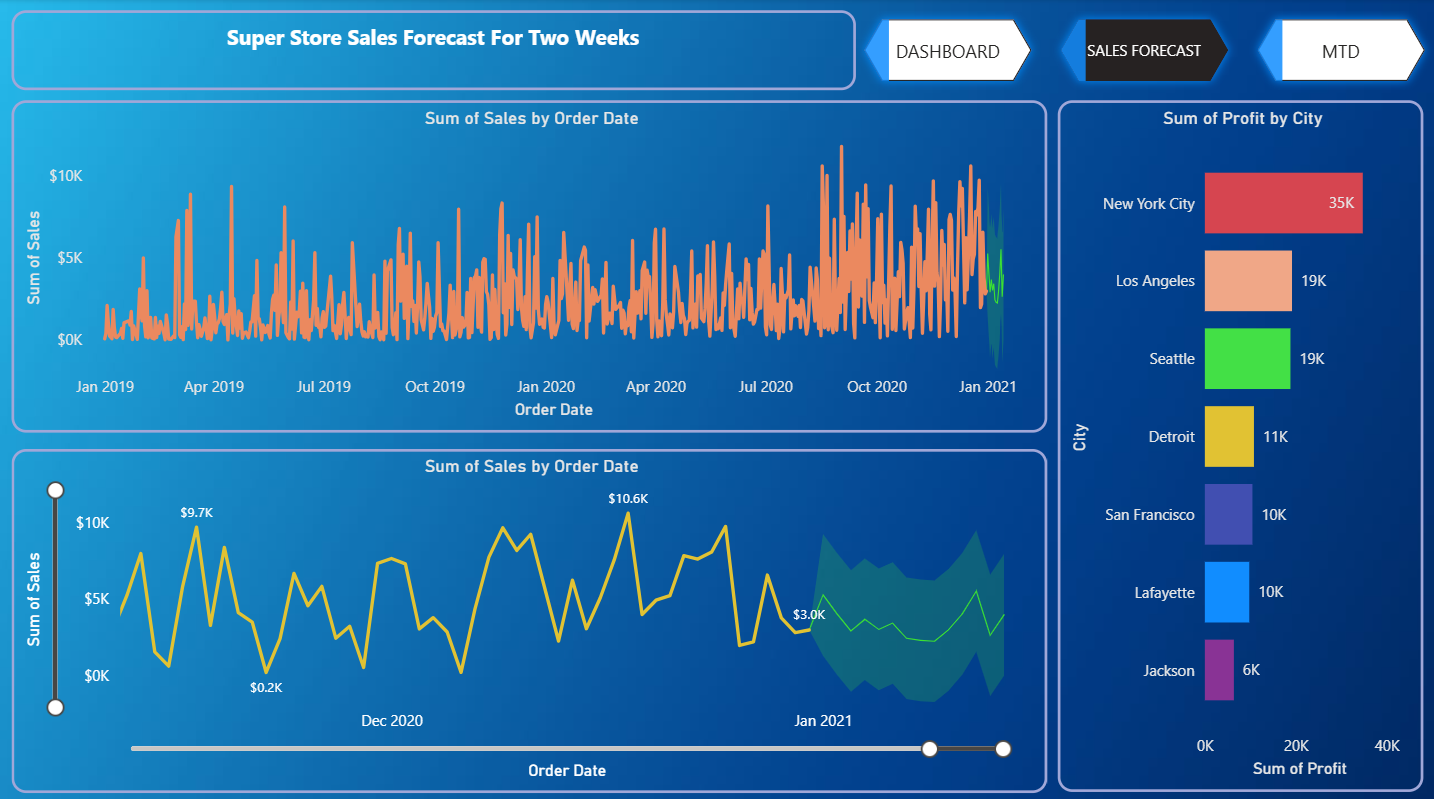

The dashboard page shown, as its layout file describes it:
{"tool":"powerbi","page":{"name":"SALES FORECAST","canvas":[1280,720],"ordinal":1},"visuals":[{"type":"lineChart","fields":{"Y":["Sum(Sheet1.Sales)"],"Category":["Sheet1.Order Date"]},"box":[11,90.6,922.1,296.4],"z":0},{"type":"lineChart","fields":{"Y":["Sum(Sheet1.Sales)"],"Category":["Sheet1.Order Date"]},"box":[11,400.7,922.1,306],"z":1000},{"type":"textbox","box":[11,9.6,752,71.4],"z":2000},{"type":"clusteredBarChart","fields":{"Y":["Sum(Sheet1.Profit)"],"Category":["Sheet1.City"]},"box":[942.7,90.6,325.2,616.1],"z":3000},{"type":"pageNavigator","box":[763,9.6,517.3,71.4],"z":4000}]}

Visuals, with their boxes in screenshot pixels (x1, y1, x2, y2), scaled from the page's 1280x720 canvas onto the 1434x799 screenshot:
lineChart - Sum(Sheet1.Sales) x Sheet1.Order Date: <region>12, 101, 1045, 429</region>
lineChart - Sum(Sheet1.Sales) x Sheet1.Order Date: <region>12, 445, 1045, 784</region>
textbox: <region>12, 11, 855, 90</region>
clusteredBarChart - Sum(Sheet1.Profit) x Sheet1.City: <region>1056, 101, 1420, 784</region>
pageNavigator: <region>855, 11, 1433, 90</region>
